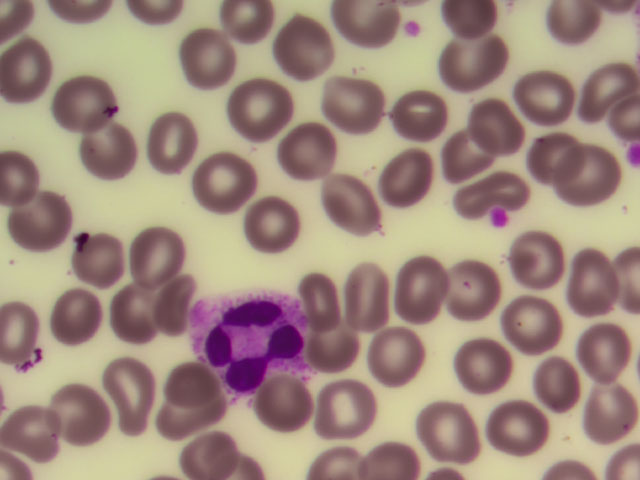Platelets: (403, 17, 427, 43), (492, 208, 508, 225)
RBC: (52, 74, 117, 133), (9, 34, 74, 93), (169, 33, 234, 92), (270, 16, 335, 75), (331, 75, 396, 134), (229, 85, 294, 144), (141, 111, 206, 170), (80, 125, 145, 184), (181, 152, 246, 211), (241, 203, 306, 262), (319, 183, 384, 242), (268, 116, 333, 175), (369, 151, 434, 210), (389, 86, 454, 145), (426, 120, 491, 179), (458, 93, 523, 152), (449, 31, 514, 90), (512, 60, 577, 119), (521, 124, 586, 183), (554, 146, 619, 205), (453, 154, 518, 213), (570, 63, 635, 122), (5, 192, 70, 251), (1, 143, 66, 202), (67, 226, 132, 285), (49, 281, 114, 340), (1, 302, 66, 361), (96, 363, 161, 422), (46, 391, 111, 450), (5, 402, 70, 461), (156, 349, 221, 408), (149, 385, 214, 444), (174, 421, 239, 480), (242, 370, 307, 429), (311, 377, 376, 436), (305, 322, 370, 381), (290, 264, 355, 323), (329, 259, 394, 318), (383, 251, 448, 310), (437, 255, 502, 314), (500, 229, 565, 288), (550, 248, 615, 307), (574, 316, 639, 375), (575, 375, 640, 434), (531, 357, 596, 416), (503, 295, 568, 354), (449, 342, 514, 401), (490, 397, 555, 456), (411, 400, 476, 459), (373, 329, 438, 388), (126, 212, 191, 271), (113, 277, 178, 336), (136, 265, 201, 324), (217, 1, 282, 59), (548, 1, 613, 59), (342, 1, 407, 59), (362, 436, 428, 480)
WBC: (190, 283, 286, 376)
